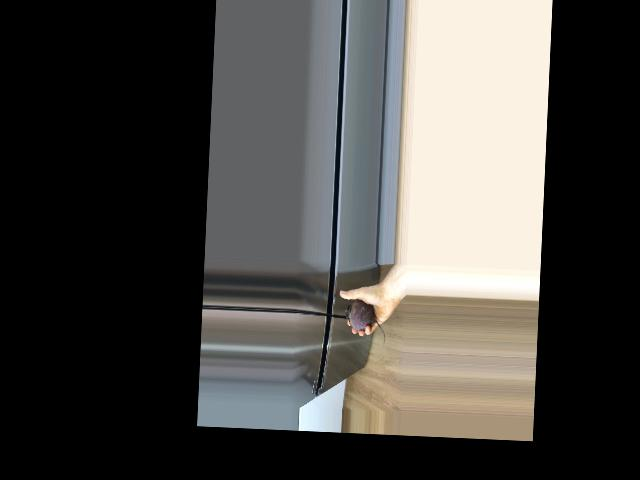beet: (344, 299, 386, 345)
